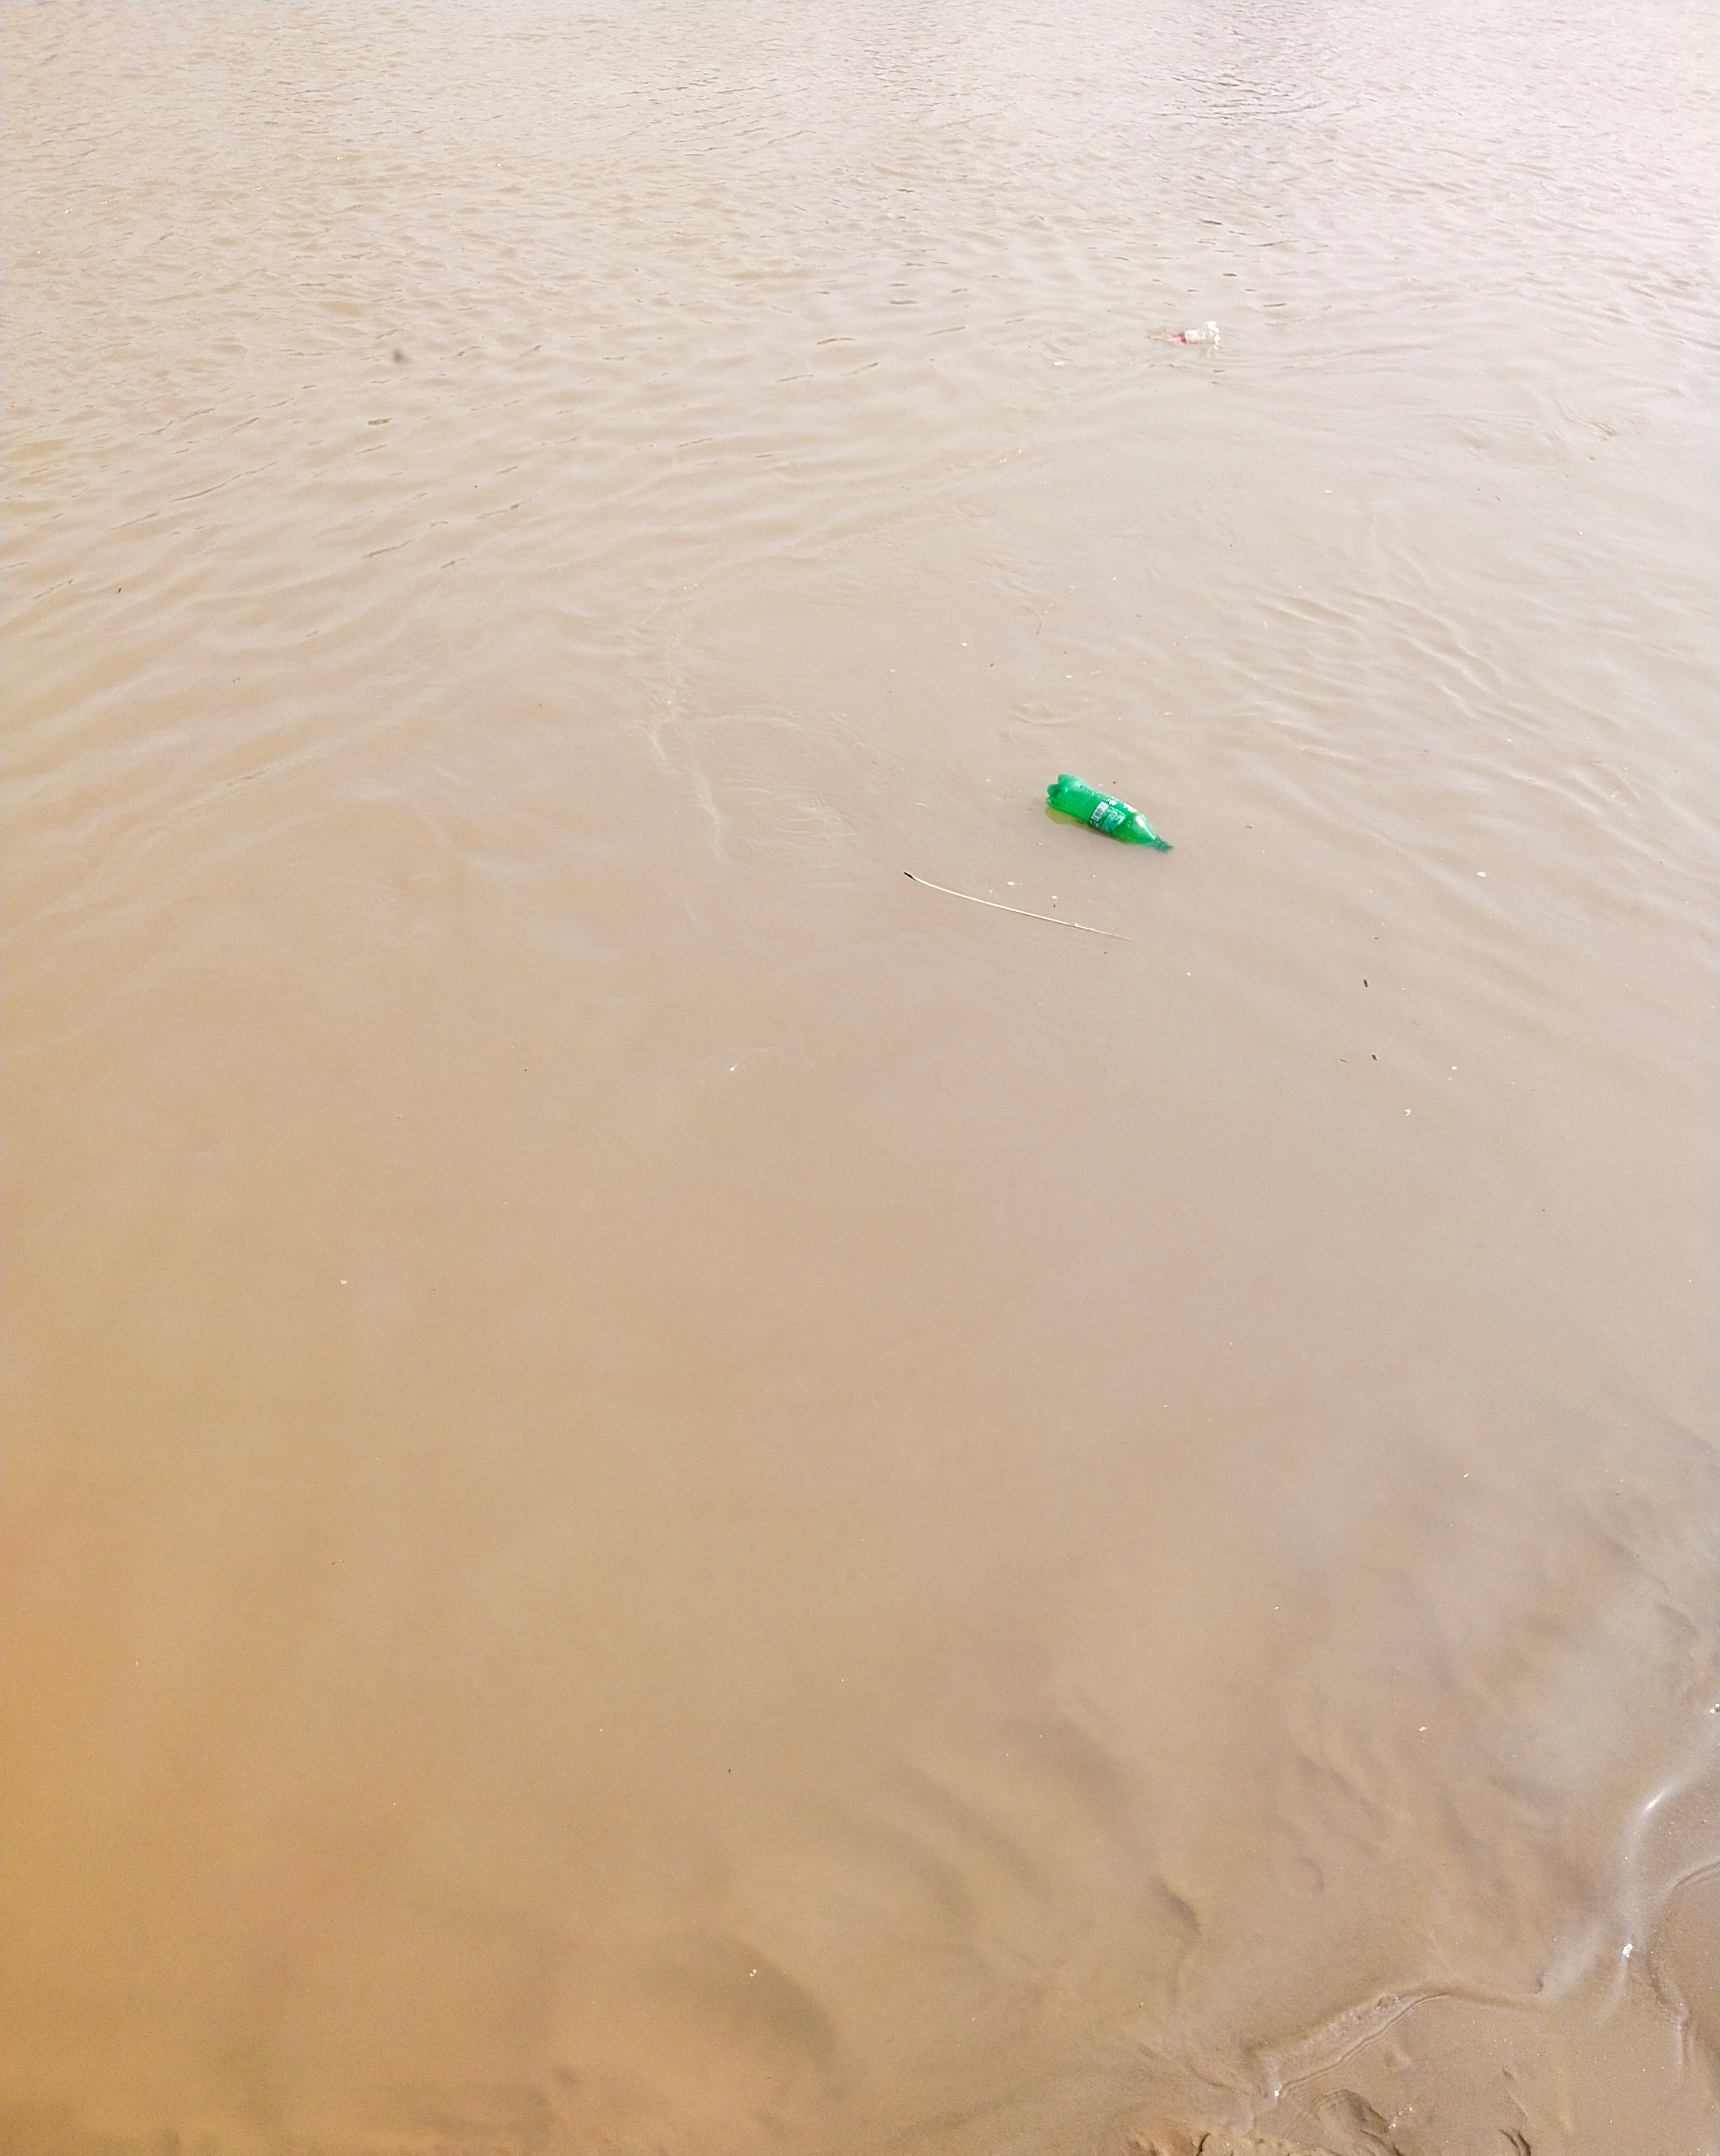Plastic Bottle: (1046, 773, 1171, 852), (1171, 320, 1218, 344)
